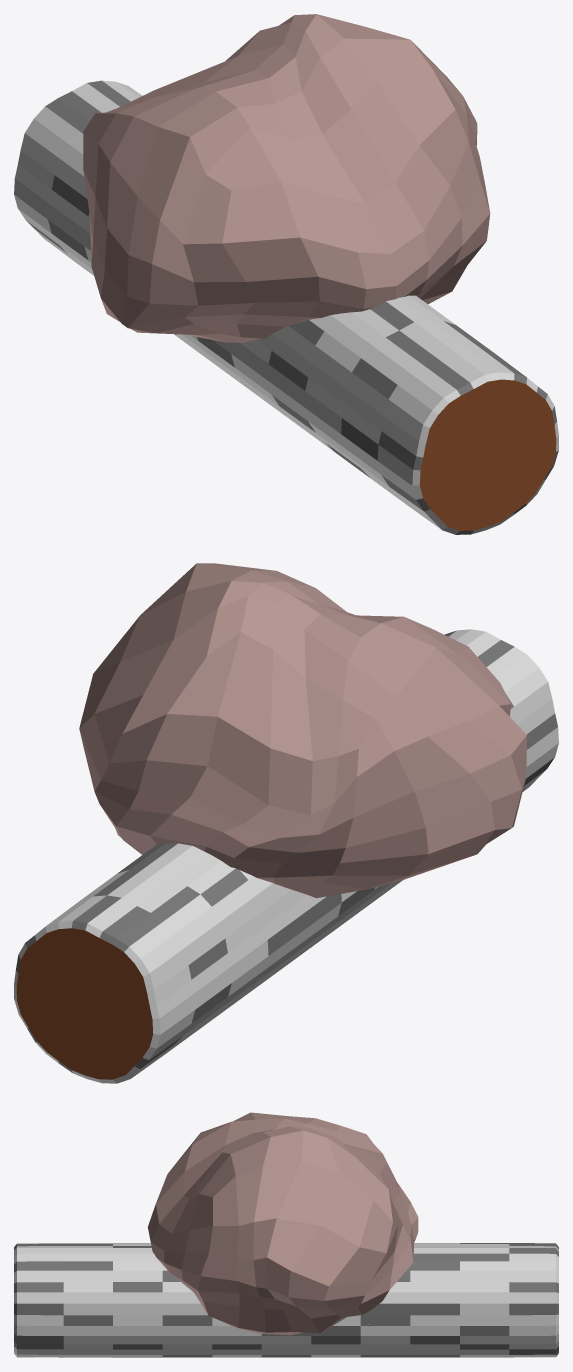
File: CraftingSupplies.fbx
3 renders of one model, top to bottom at view 1: azimuth 30°, elevation 25°; view 2: azimuth 150°, elevation 25°; view 3: azimuth 270°, elevation 25°, orthographic. The views are drawn at different scales.
Parts seen in each view (by area): view 1: Big stone, Log; view 2: Big stone, Log; view 3: Big stone, Log.
Part boxes in pixels (x1,y1,x2,y2): Big stone: (83, 14, 490, 342); Log: (14, 80, 558, 534); Big stone: (79, 563, 526, 898); Log: (14, 629, 558, 1083); Big stone: (147, 1112, 418, 1335); Log: (14, 1243, 558, 1357).
Bounding box in the file's own units: 111 × 96.38 × 200.
